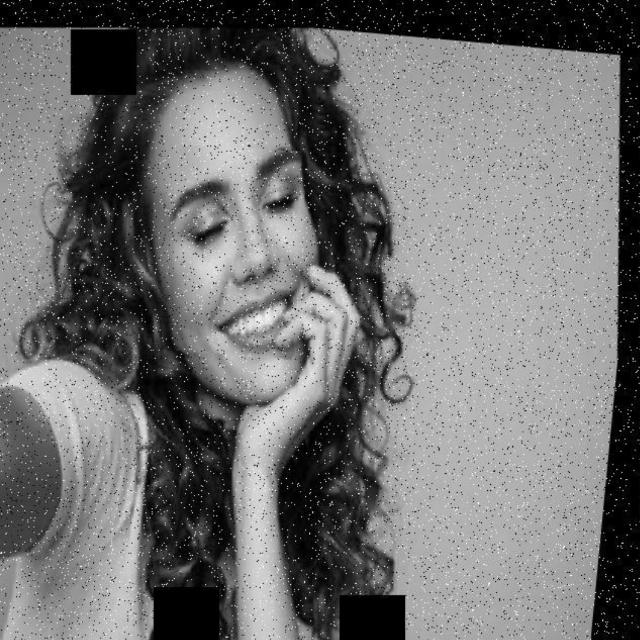Happy: (147, 87, 335, 423)
